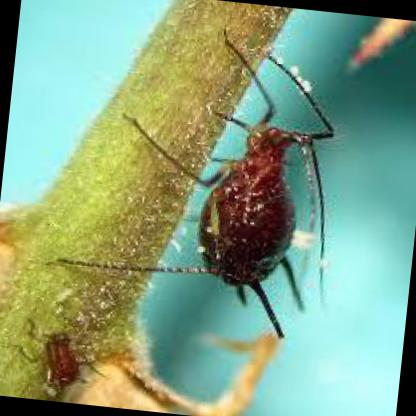uroleucon compositae: (149, 52, 334, 336)
